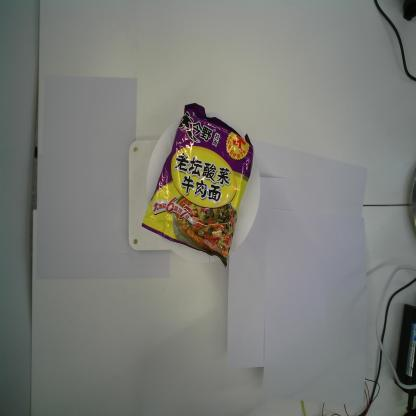Instant Noodles: (140, 102, 254, 270)
